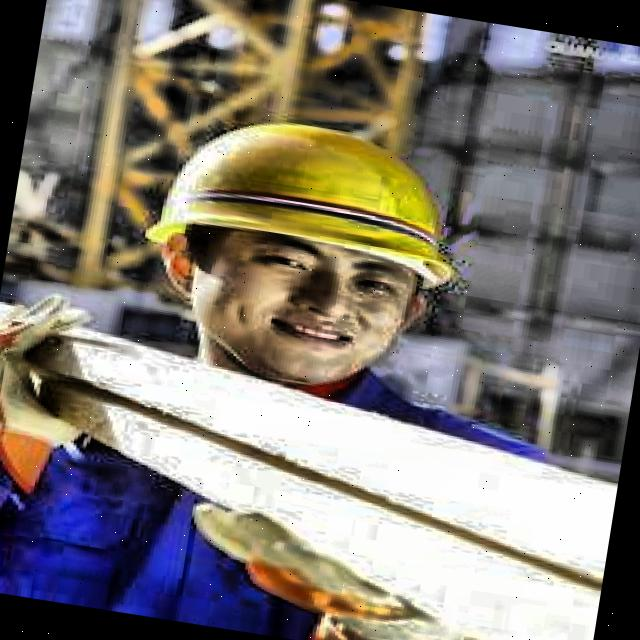helmet: (82, 72, 514, 428)
